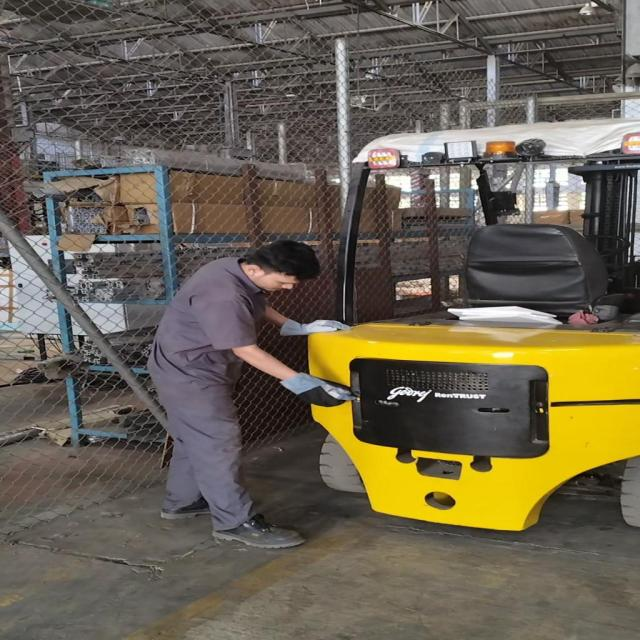Gloves-Detection: (285, 372, 348, 414), (284, 318, 351, 341)
